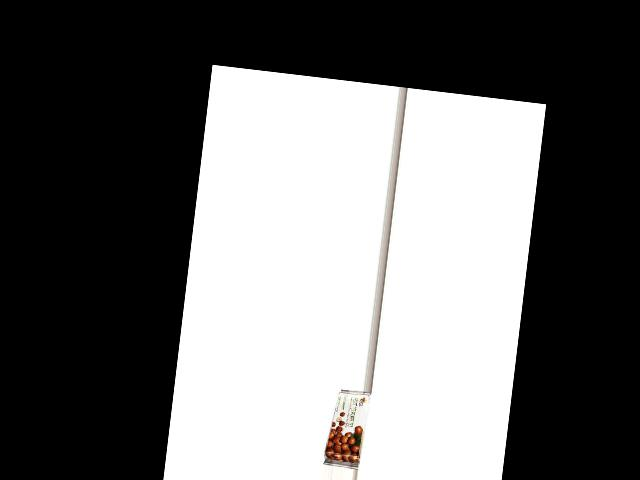chocolate: (322, 387, 368, 468)
